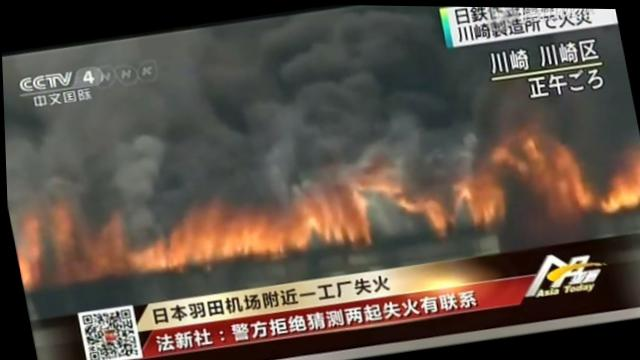fire: (116, 198, 290, 274), (280, 191, 369, 254), (52, 222, 128, 284), (527, 143, 586, 213), (9, 218, 47, 291), (456, 175, 505, 226), (593, 167, 639, 212), (489, 134, 529, 179), (416, 192, 454, 235), (355, 173, 399, 198), (392, 190, 421, 212)
